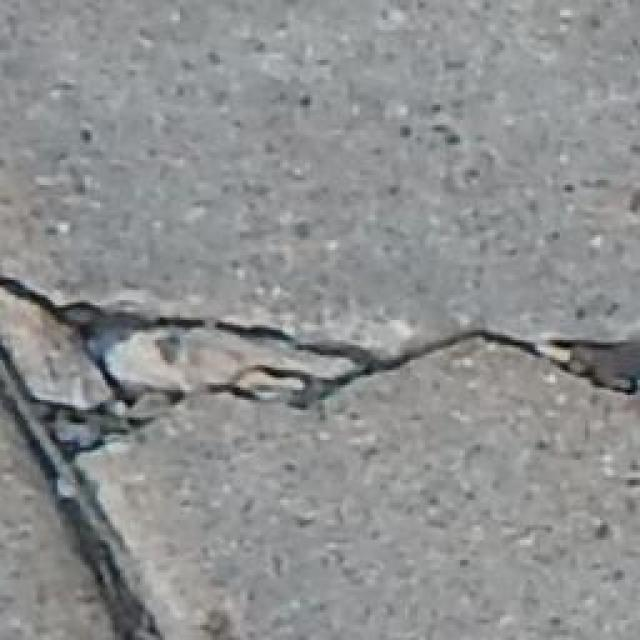concrete-crack: (0, 266, 640, 640)
